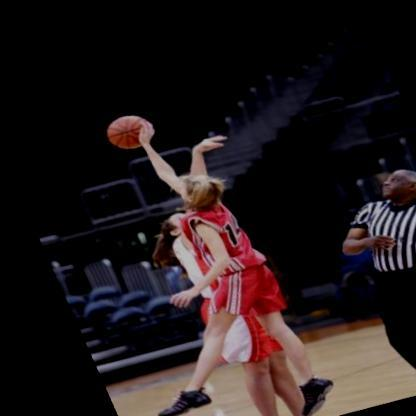basketball: (94, 108, 155, 154)
